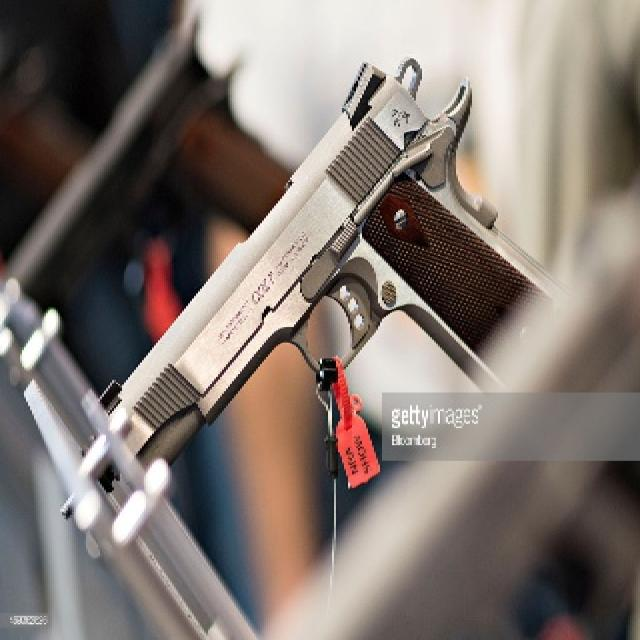handgun: (73, 57, 563, 519)
